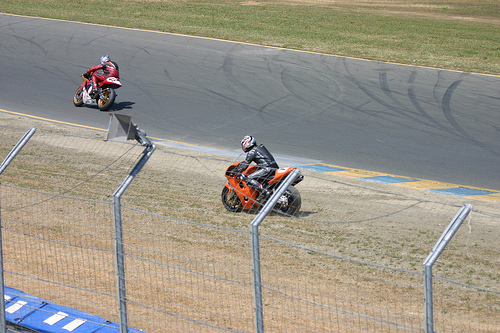helmet: (242, 134, 257, 149), (102, 53, 109, 64)
